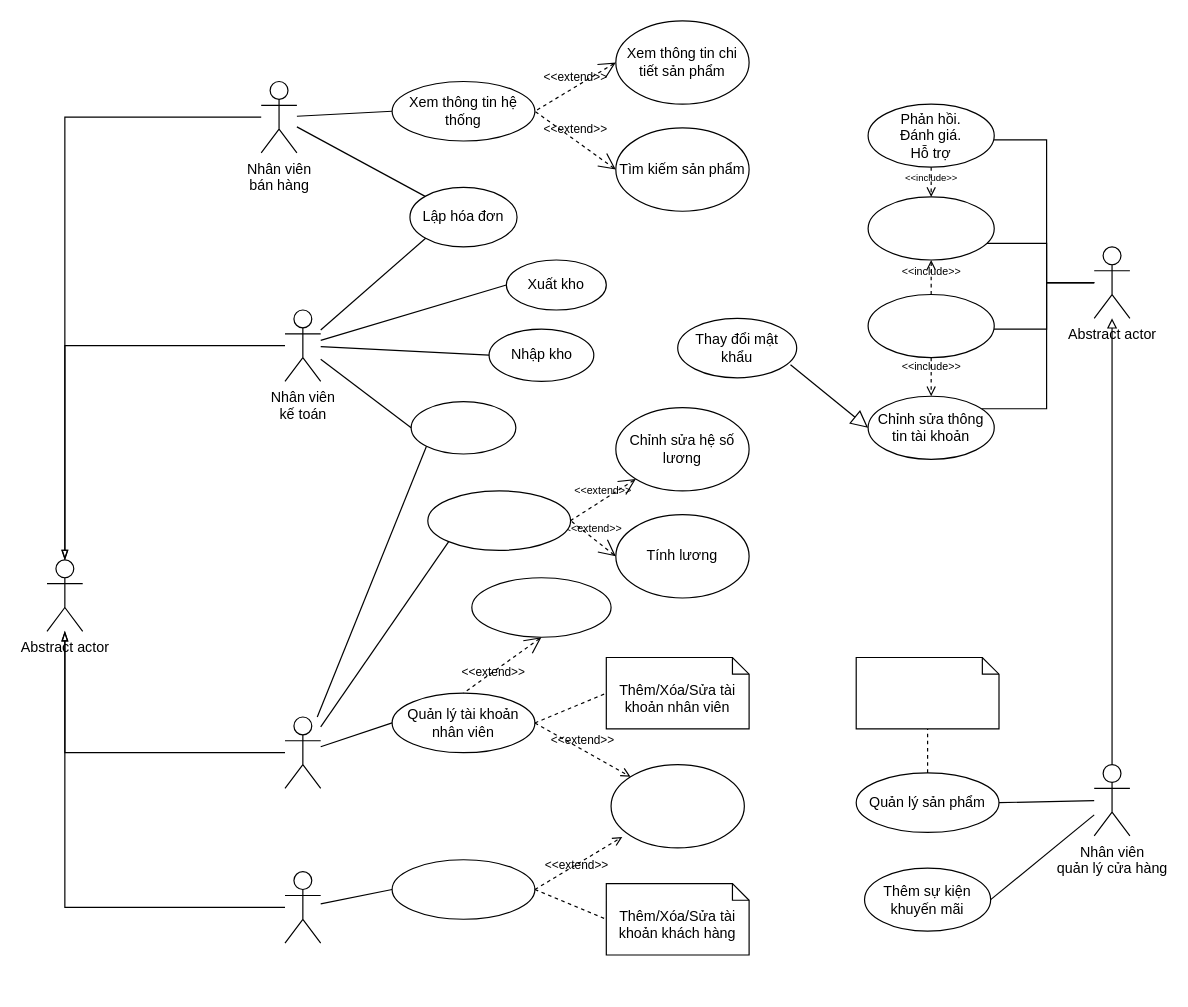
Some shapes in this 1188 by 1007 pixel diagram are drawn without their labels. Each missing label, with the centre of its shape:
Chủ cửa hàng: (302,752)
Nhân viên lễ tân: (302,906)
Phân quyền tài khoản nhân viên: (541,607)
Phê duyệt tài khoản: (677,805)
Quản lý nhân viên: (499,520)
Quản lý tài khoản khách hàng: (463,889)
Thêm/Xóa/Sửa sản phẩm: (927,692)
Thống kê: (463,427)
Đăng nhập: (930,228)
Đăng xuất: (930,325)
